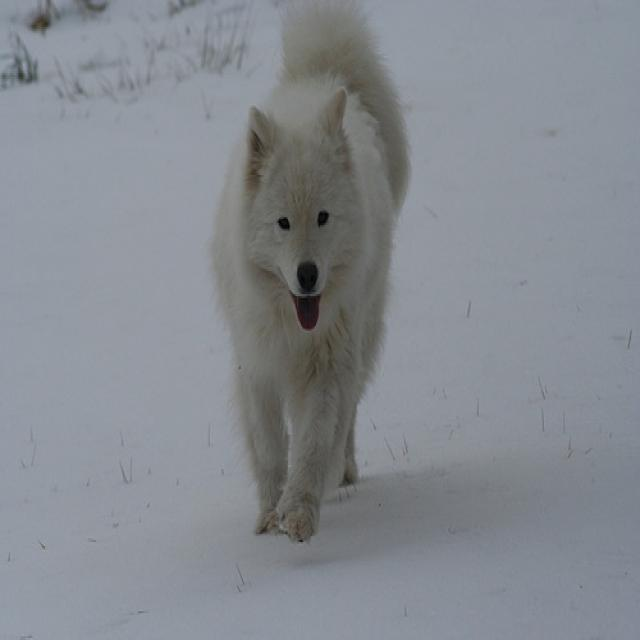dog: (241, 82, 353, 328)
